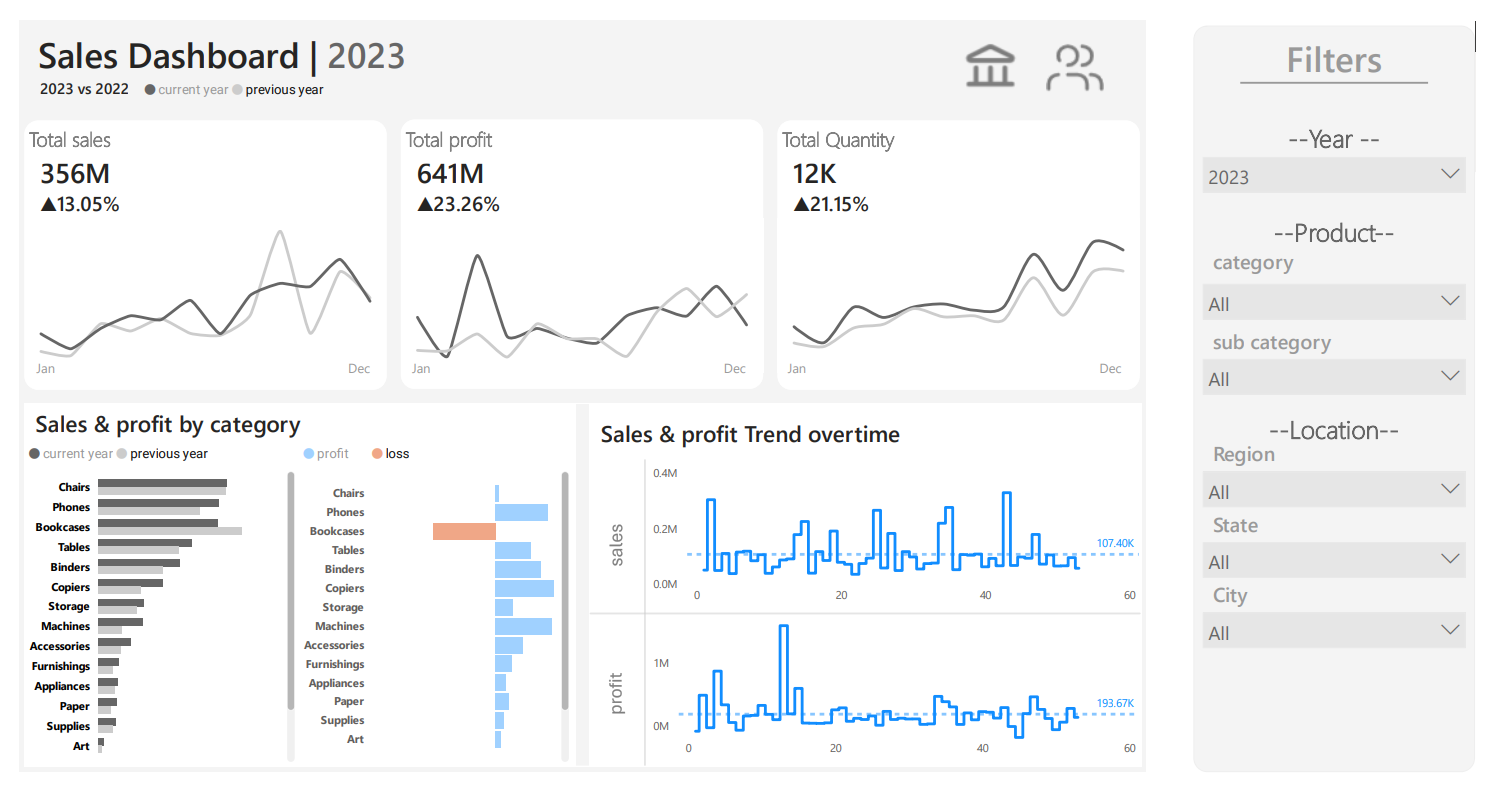

The page's visual inventory and layout, read from the dashboard file:
{"tool":"powerbi","page":{"name":"sales dashboard","canvas":[1550,800],"ordinal":0},"visuals":[{"type":"shape","box":[0,0,1200,800],"z":0},{"type":"shape","title":"header","box":[5,5,1190,90],"z":1000},{"type":"shape","title":"visual cont","box":[5,407,1190,387],"z":3000},{"type":"shape","title":"trend 1 cont","box":[5,105.7,386,287],"z":4000},{"type":"shape","title":"trend 2 cont","box":[406,105,386,287],"z":5000},{"type":"shape","title":"trend 2 cont","box":[807,105.7,386,287],"z":6000},{"type":"textbox","box":[5,105,300,43],"z":7000},{"type":"cardVisual","fields":{"Data":["Orders.c_sales"]},"box":[5,135,197.8,66],"z":8000},{"type":"cardVisual","fields":{"Data":["Orders.p_sal%"]},"box":[5,162,451.7,59],"z":11000},{"type":"lineChart","fields":{"Category":["Orders.Order Date.Variation.Date Hierarchy.Month"],"Y":["Orders.p_sales","Orders.c_sales"]},"box":[5,210,386,165],"z":12000},{"type":"textbox","box":[406,105,300,43],"z":14000},{"type":"cardVisual","fields":{"Data":["Orders.c_profit"]},"box":[406,135,197.8,66],"z":15000},{"type":"cardVisual","fields":{"Data":["Orders.profit_diff"]},"box":[406,162,451.7,59],"z":16000},{"type":"lineChart","fields":{"Category":["Orders.Order Date.Variation.Date Hierarchy.Month"],"Y":["Orders.c_quantity","Orders.p_profit"]},"box":[406,210,386,165],"z":17000},{"type":"textbox","box":[807,105,300,43],"z":18000},{"type":"cardVisual","fields":{"Data":["Orders.c_qunt"]},"box":[807,135,197.8,66],"z":19000},{"type":"cardVisual","fields":{"Data":["Orders.p_qua%"]},"box":[807,162,250,59],"z":20000},{"type":"lineChart","fields":{"Category":["Orders.Order Date.Variation.Date Hierarchy.Month"],"Y":["Orders.c_qunt","Orders.p_qunt"]},"box":[807,210,386,165],"z":21000},{"type":"shape","box":[5,407,587,387],"z":22000},{"type":"clusteredBarChart","fields":{"Category":["Products.Sub-Category"],"Y":["Orders.c_sales","Orders.p_sales"]},"box":[5,467,293,327],"z":23000},{"type":"clusteredBarChart","fields":{"Y":["Orders.sales_difference"],"Category":["Products.Sub-Category"]},"box":[297,467,293,327],"z":24000},{"type":"shape","box":[607,407,587,387],"z":25000},{"type":"lineChart","fields":{"Category":["Orders.Week_Number"],"Y":["Avg(Orders.Sales)"]},"box":[670,467,527,163],"z":26000},{"type":"lineChart","fields":{"Category":["Orders.Week_Number"],"Y":["Avg(Orders.Profit)"]},"box":[670,630,527,163],"z":27000},{"type":"shape","box":[607,625,587,12],"z":28000},{"type":"shape","box":[660,467,12,326],"z":29000},{"type":"textbox","box":[5,5,450,60],"z":30000},{"type":"cardVisual","fields":{"Data":["Orders.cur_prev_year"]},"box":[5,45,197.8,66],"z":31000},{"type":"textbox","box":[128,58,280,30],"z":32000},{"type":"actionButton","box":[1000,10,70,80],"z":34000},{"type":"actionButton","box":[1090,10,70,80],"z":35000},{"type":"textbox","box":[5,355,386,30],"z":37000},{"type":"textbox","box":[405,355,386,30],"z":38000},{"type":"textbox","box":[805,355,386,30],"z":39000},{"type":"textbox","box":[5,407,587,60],"z":40000},{"type":"textbox","box":[5,445,280,30],"z":41000},{"type":"textbox","box":[297,445,280,30],"z":42000},{"type":"textbox","box":[607,417,587,60],"z":43000},{"type":"shape","box":[1250,5,300,795],"z":44000},{"type":"textbox","box":[1250,10,300,70],"z":45000},{"type":"shape","box":[1300,60,200,12],"z":46000},{"type":"slicer","fields":{"Values":["Orders.yr"]},"box":[1250,135,300,260],"z":47000},{"type":"textbox","box":[1250,100,300,50],"z":48000},{"type":"textbox","box":[1250,200,300,50],"z":49000},{"type":"textbox","box":[1250,235,300,50],"z":50000},{"type":"slicer","fields":{"Values":["Products.Category"]},"box":[1250,270,300,150],"z":51000},{"type":"textbox","box":[1250,320,300,50],"z":52000},{"type":"slicer","fields":{"Values":["Products.Sub-Category"]},"box":[1250,350,300,150],"z":53000},{"type":"textbox","box":[1250,410,300,50],"z":54000},{"type":"textbox","box":[1250,440,300,50],"z":55000},{"type":"slicer","fields":{"Values":["Location.Region"]},"box":[1250,470,300,100],"z":56000},{"type":"textbox","box":[1250,515,300,50],"z":57000},{"type":"slicer","fields":{"Values":["Location.State"]},"box":[1250,545,300,100],"z":58000},{"type":"textbox","box":[1250,590,300,50],"z":59000},{"type":"slicer","fields":{"Values":["Location.City"]},"box":[1250,620,300,100],"z":60000},{"type":"image","box":[615,500,43.8,115],"z":60001},{"type":"image","box":[615,658,43,115],"z":60002}]}

Visuals, with their boxes in screenshot pixels (x1, y1, x2, y2), scaled from the page's 1550x800 canvas onto the 1497x792 screenshot:
shape: [0, 0, 1159, 791]
"header" shape: [5, 5, 1154, 94]
"visual cont" shape: [5, 403, 1154, 786]
"trend 1 cont" shape: [5, 105, 378, 389]
"trend 2 cont" shape: [392, 104, 765, 388]
"trend 2 cont" shape: [779, 105, 1152, 389]
textbox: [5, 104, 295, 147]
cardVisual - Orders.c_sales: [5, 134, 196, 199]
cardVisual - Orders.p_sal%: [5, 160, 441, 219]
lineChart - Orders.Order Date.Variation.Date Hierarchy.Month x Orders.p_sales: [5, 208, 378, 371]
textbox: [392, 104, 682, 147]
cardVisual - Orders.c_profit: [392, 134, 583, 199]
cardVisual - Orders.profit_diff: [392, 160, 828, 219]
lineChart - Orders.Order Date.Variation.Date Hierarchy.Month x Orders.c_quantity: [392, 208, 765, 371]
textbox: [779, 104, 1069, 147]
cardVisual - Orders.c_qunt: [779, 134, 970, 199]
cardVisual - Orders.p_qua%: [779, 160, 1021, 219]
lineChart - Orders.Order Date.Variation.Date Hierarchy.Month x Orders.c_qunt: [779, 208, 1152, 371]
shape: [5, 403, 572, 786]
clusteredBarChart - Products.Sub-Category x Orders.c_sales: [5, 462, 288, 786]
clusteredBarChart - Orders.sales_difference x Products.Sub-Category: [287, 462, 570, 786]
shape: [586, 403, 1153, 786]
lineChart - Orders.Week_Number x Avg(Orders.Sales): [647, 462, 1156, 624]
lineChart - Orders.Week_Number x Avg(Orders.Profit): [647, 624, 1156, 785]
shape: [586, 619, 1153, 631]
shape: [637, 462, 649, 785]
textbox: [5, 5, 439, 64]
cardVisual - Orders.cur_prev_year: [5, 45, 196, 110]
textbox: [124, 57, 394, 87]
actionButton: [966, 10, 1033, 89]
actionButton: [1053, 10, 1120, 89]
textbox: [5, 351, 378, 381]
textbox: [391, 351, 764, 381]
textbox: [777, 351, 1150, 381]
textbox: [5, 403, 572, 462]
textbox: [5, 441, 275, 470]
textbox: [287, 441, 557, 470]
textbox: [586, 413, 1153, 472]
shape: [1207, 5, 1496, 791]
textbox: [1207, 10, 1496, 79]
shape: [1256, 59, 1449, 71]
slicer - Orders.yr: [1207, 134, 1496, 391]
textbox: [1207, 99, 1496, 148]
textbox: [1207, 198, 1496, 248]
textbox: [1207, 233, 1496, 282]
slicer - Products.Category: [1207, 267, 1496, 416]
textbox: [1207, 317, 1496, 366]
slicer - Products.Sub-Category: [1207, 346, 1496, 495]
textbox: [1207, 406, 1496, 455]
textbox: [1207, 436, 1496, 485]
slicer - Location.Region: [1207, 465, 1496, 564]
textbox: [1207, 510, 1496, 559]
slicer - Location.State: [1207, 540, 1496, 639]
textbox: [1207, 584, 1496, 634]
slicer - Location.City: [1207, 614, 1496, 713]
image: [594, 495, 636, 609]
image: [594, 651, 636, 765]
